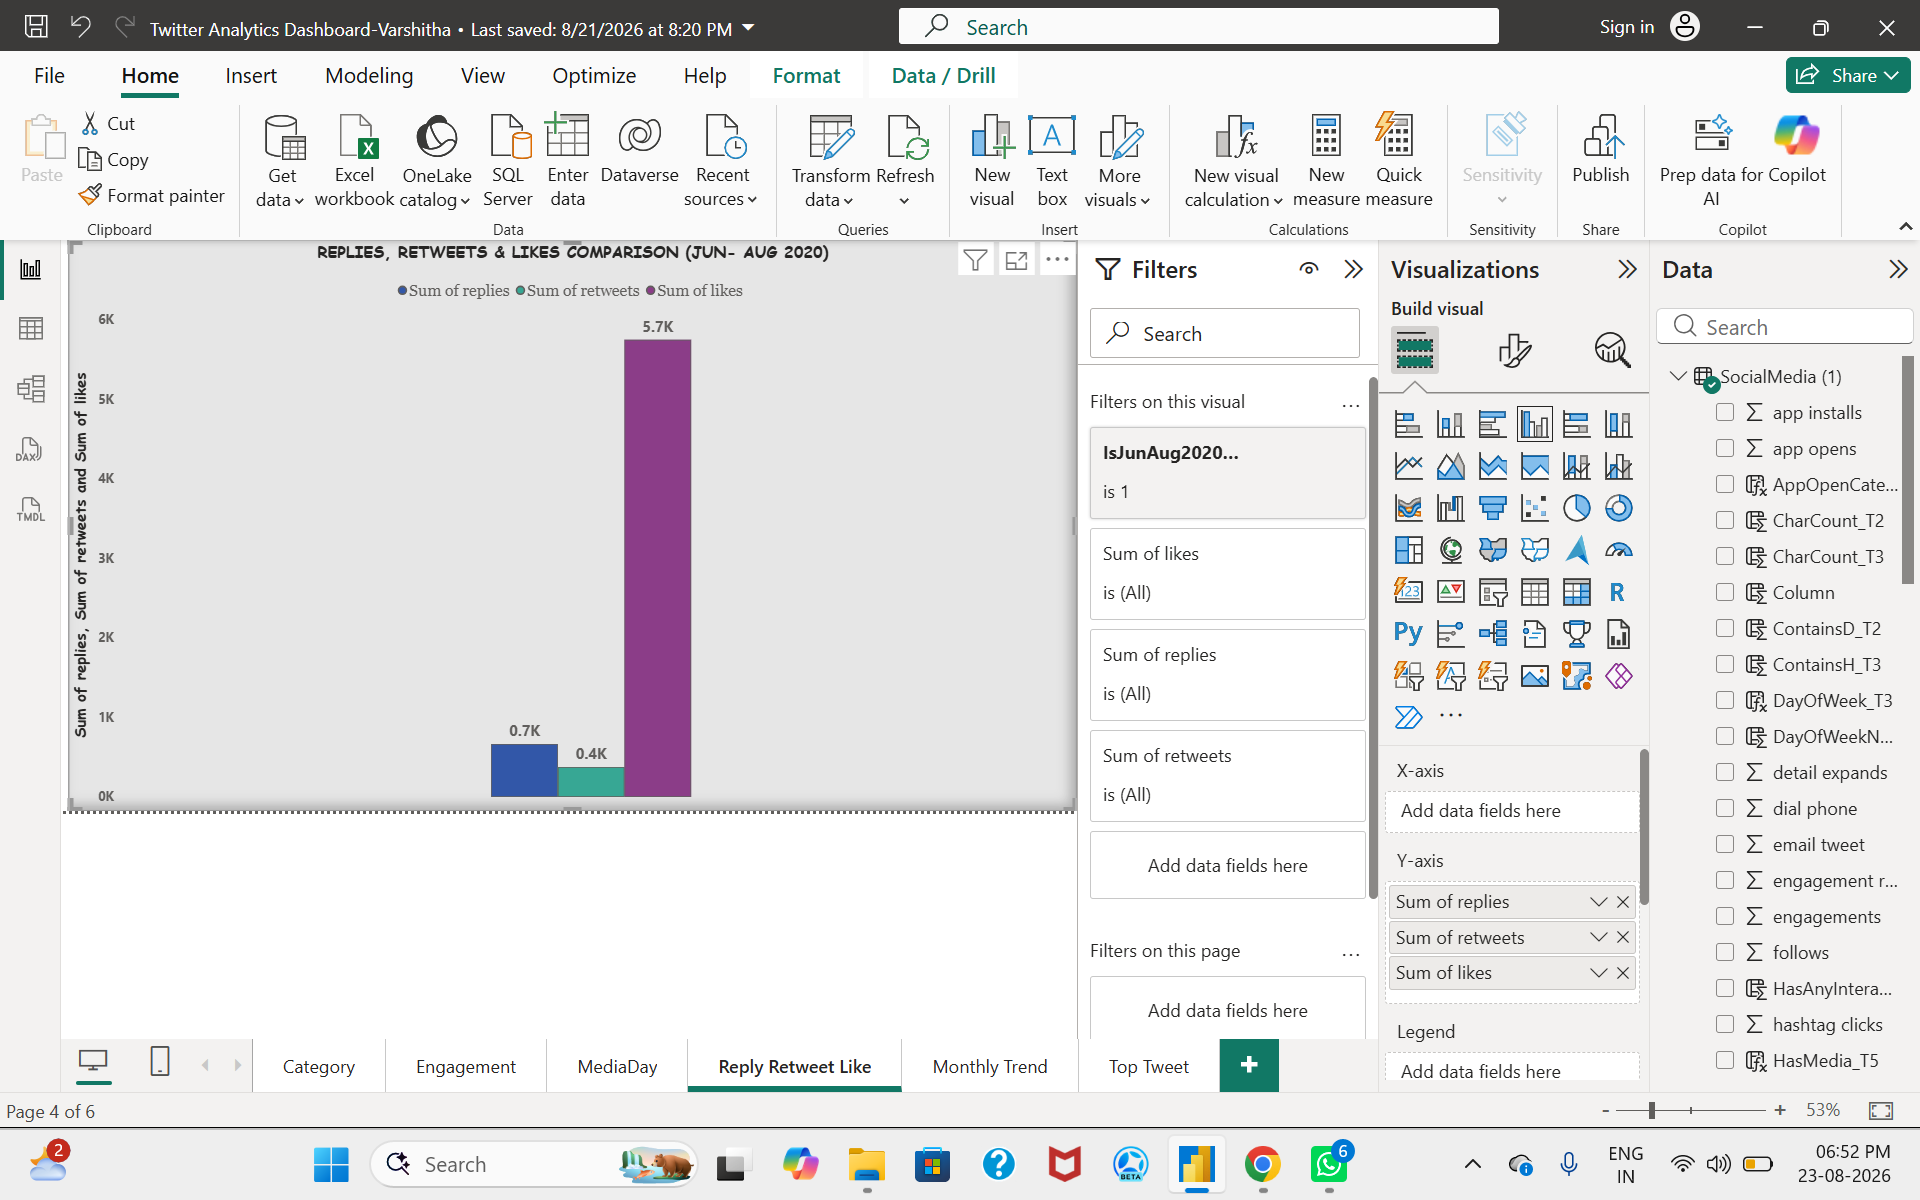

The page's visual inventory and layout, read from the dashboard file:
{"tool":"powerbi","page":{"name":"Reply Retweet Like","canvas":[1280,720],"ordinal":3},"visuals":[{"type":"clusteredColumnChart","title":"REPLIES, RETWEETS & LIKES COMPARISON (JUN- AUG 2020)","fields":{"Y":["Sum(SocialMedia (1).replies)","Sum(SocialMedia (1).retweets)","Sum(SocialMedia (1).likes)"]},"box":[9.4,0,1269.9,720],"z":0}]}

Visuals, with their boxes on the page's 1280x720 design canvas (x1, y1, x2, y2). These are canvas units, not pixel positions in the 1920x1200 screenshot, which may show the page scaled, cropped or inside an application window:
"REPLIES, RETWEETS & LIKES COMPARISON (JUN- AUG 2020)" clusteredColumnChart: {"left": 9, "top": 0, "right": 1279, "bottom": 720}
